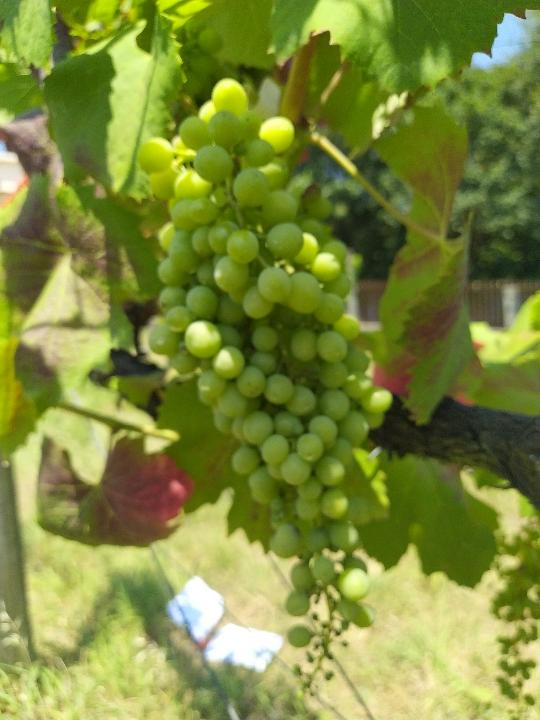grape: (140, 75, 398, 716)
